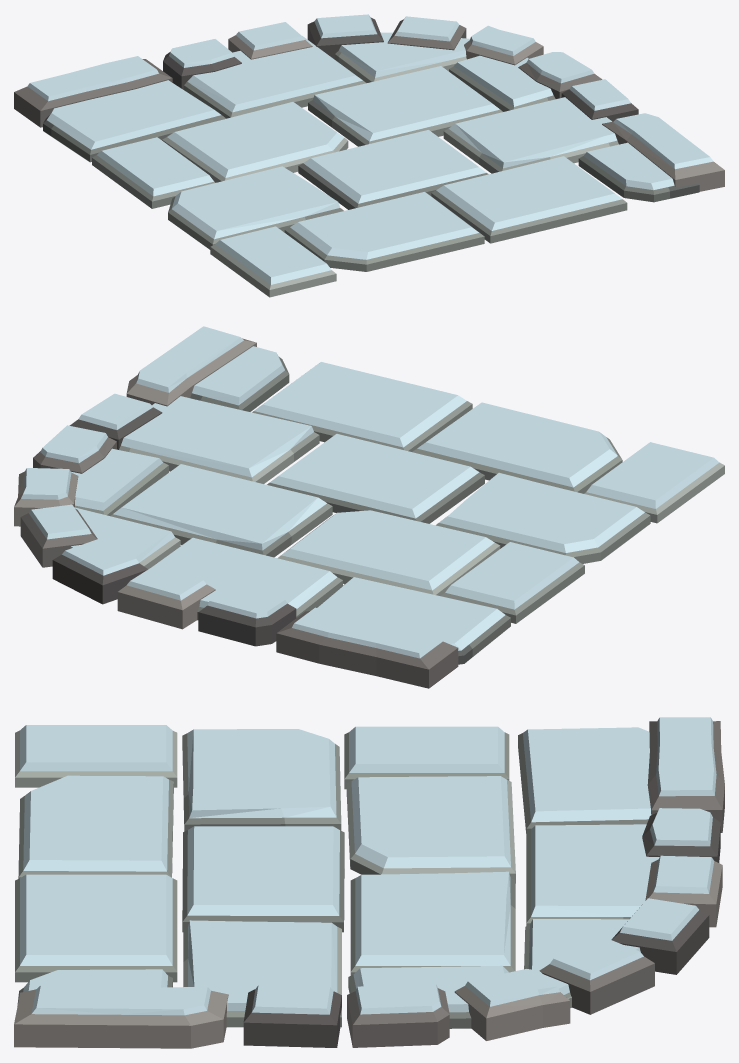
Rendered from SM_Env_Path_Tile_Corner_01_Snow.glb.
3 views of the same model, one above another, from view 1: azimuth 30°, elevation 25°; view 2: azimuth 150°, elevation 25°; view 3: azimuth 270°, elevation 25° (orthographic). The views are drawn at different scales.
Visible parts, largest first — view 1: SM_Env_Path_Tile_Corner_01_Snow; view 2: SM_Env_Path_Tile_Corner_01_Snow; view 3: SM_Env_Path_Tile_Corner_01_Snow.
Part boxes in pixels (<box>): SM_Env_Path_Tile_Corner_01_Snow: <box>14,14,724,297</box>; SM_Env_Path_Tile_Corner_01_Snow: <box>14,326,724,688</box>; SM_Env_Path_Tile_Corner_01_Snow: <box>14,717,724,1048</box>.
Size of the model in its own units: 3.17 by 0.1692 by 3.12.
1 material, 1 textured.
